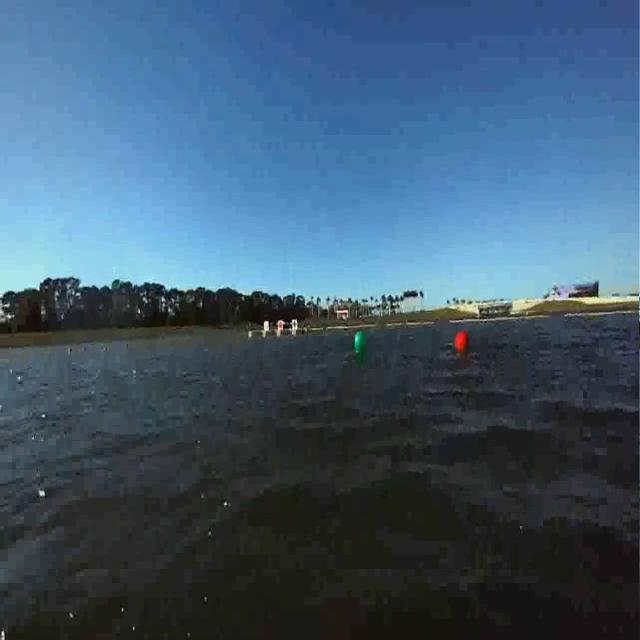green-buoy: (354, 333, 366, 352)
red-buoy: (455, 332, 469, 354)
